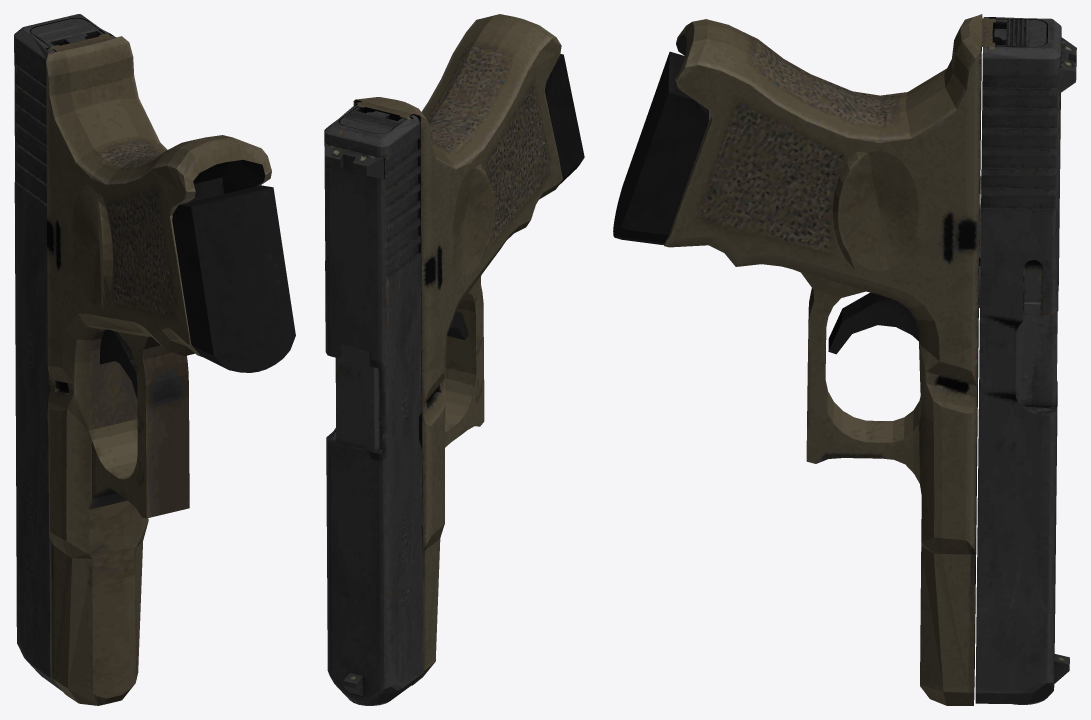
Rendered from w_pist_glock18.obj.
3 views of the same model, side by side, from view 1: azimuth 30°, elevation 25°; view 2: azimuth 150°, elevation 25°; view 3: azimuth 270°, elevation 25° (orthographic). The views are drawn at different scales.
Size of the model in its own units: 0.0127 by 0.0795 by 0.05.
1 material, 1 textured.
